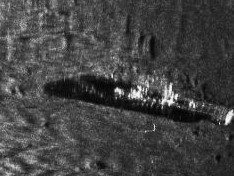ship: (67, 73, 232, 123)
